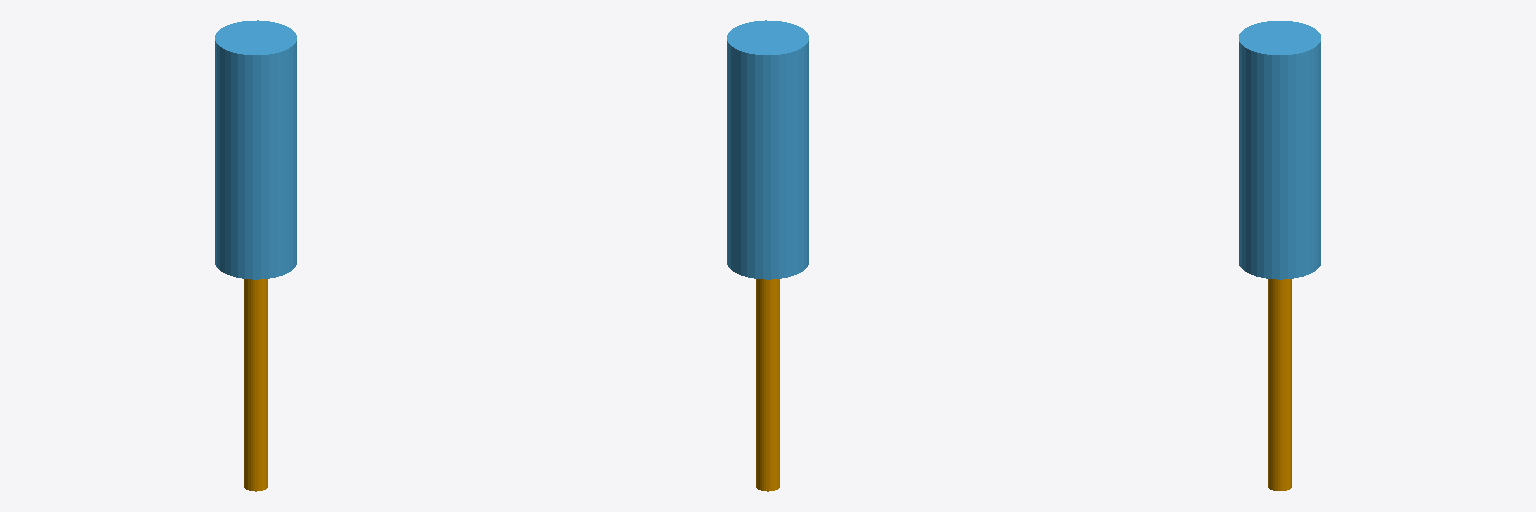
robot.urdf — screwdriver_on_the_table:
<?xml version="1.0" ?>
<!-- this is the one without any virtual joints and links -->
<robot name="screwdriver_on_the_table">
<link name="screwdriver_stick">
    <inertial>
      <mass value="0.05"/>
      <!-- <friction value="1.0"/> -->
      <inertia ixx="0.000041979" ixy="0.0" ixz="0.0" iyy="0.000041979" iyz="0.0" izz="0.000000625"/>
    </inertial>
    <visual>
        <origin rpy="0 0 0" xyz="0 0 0.05"/>
        <geometry>
            <cylinder radius="0.005" length="0.1"/>
        </geometry>
        <!-- <material name="White">
	 	    <color rgba="0.9 0.9 0.9 0.5"/>
        </material> -->
    </visual>
    <collision>
        <origin rpy="0 0 0" xyz="0 0 0.05"/>
        <geometry>
            <cylinder radius="0.005" length="0.1"/>
        </geometry>
    </collision>
</link>

<gazebo reference="screwdriver_body">
    <mu1>1.089689</mu1>
    <mu2>0.504152</mu2>
    <!-- Isaac Sim maps mu1/mu2 to PhysX static/dynamic friction during URDF→USD import -->
</gazebo>

<joint name="screwdriver_stick_body_joint" type="fixed">
    <parent link="screwdriver_stick"/>
    <child link="screwdriver_body"/>
    <origin rpy="0 0 0" xyz="0 0 0.1"/> 
    <axis xyz="0 0 1"/>
</joint>

<link name="screwdriver_body">
    <inertial>
      <mass value="0.187047"/>
      <inertia ixx="0.000168974" ixy="0.0" ixz="0.0" iyy="0.000168974" iyz="0.0" izz="0.000026203"/>
    </inertial>
    <visual>
        <origin rpy="0 0 0" xyz="0 0 0.05"/>
        <geometry>
            <cylinder radius="0.016738" length="0.1"/>
        </geometry>
        <!-- <material name="Red1">
	 	    <color rgba="0.9 0. 0. 0.5"/>
        </material> -->
    </visual>
    <collision>
        <origin rpy="0 0 0" xyz="0 0 0.05"/>
        <geometry>
            <cylinder radius="0.016738" length="0.1"/>
        </geometry>
    </collision>
</link>

<!-- <joint name="screwdriver_body_cap_joint" type="revolute">
    <parent link="screwdriver_body"/>
    <child link="screwdriver_cap"/>
    <origin rpy="0 0 0" xyz="0 0 0.1"/> 
    <axis xyz="0 0 1"/>
</joint>

<link name="screwdriver_cap">
    <inertial>
      <mass value="0.005"/>
      <inertia ixx="0.00001" ixy="0.0" ixz="0.0" iyy="0.000005" iyz="0.0" izz="0.000005"/>
    </inertial>
    <visual>
        <origin rpy="0 0 0" xyz="0 0 0.0006"/>
        <geometry>
            <cylinder radius="0.02" length="0.001"/>
        </geometry>
        <material name="Yellow">
	 	    <color rgba="0.9 0.9 0. 1.0"/>
        </material>
    </visual>
    <collision>
        <origin rpy="0 0 0" xyz="0 0 0.0005"/>
        <geometry>
            <cylinder radius="0.02" length="0.001"/>
        </geometry>
    </collision>
</link> -->

</robot>

--- Facts derived from the render (not from the file) ---
The picture shows the robot from 3 angles, left to right: view 1: azimuth 30°, elevation 25°; view 2: azimuth 150°, elevation 25°; view 3: azimuth 270°, elevation 25°; orthographic projection.
Model screwdriver_on_the_table with 2 links and 1 joints (1 fixed), rooted at screwdriver_stick, posed all joints at 0.
Visible links, largest first — view 1: screwdriver_body, screwdriver_stick; view 2: screwdriver_body, screwdriver_stick; view 3: screwdriver_body, screwdriver_stick.
Boxes of the visible links, x1,y1,x2,y2 form: screwdriver_body: [215, 20, 296, 279]; screwdriver_stick: [244, 279, 267, 491]; screwdriver_body: [727, 20, 808, 279]; screwdriver_stick: [756, 279, 779, 491]; screwdriver_body: [1239, 21, 1320, 279]; screwdriver_stick: [1268, 279, 1291, 490].
Size in the robot's own frame: 0.0335 by 0.0335 by 0.2 metres.
Geometry: primitives only (box / cylinder / sphere), no mesh files.
